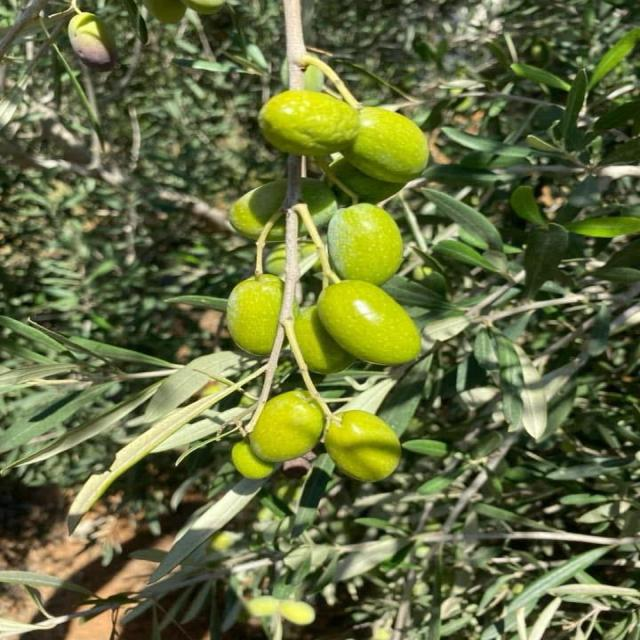Healthy: (259, 89, 429, 185), (317, 280, 420, 366), (328, 203, 404, 285), (249, 390, 325, 463), (324, 409, 401, 481)
